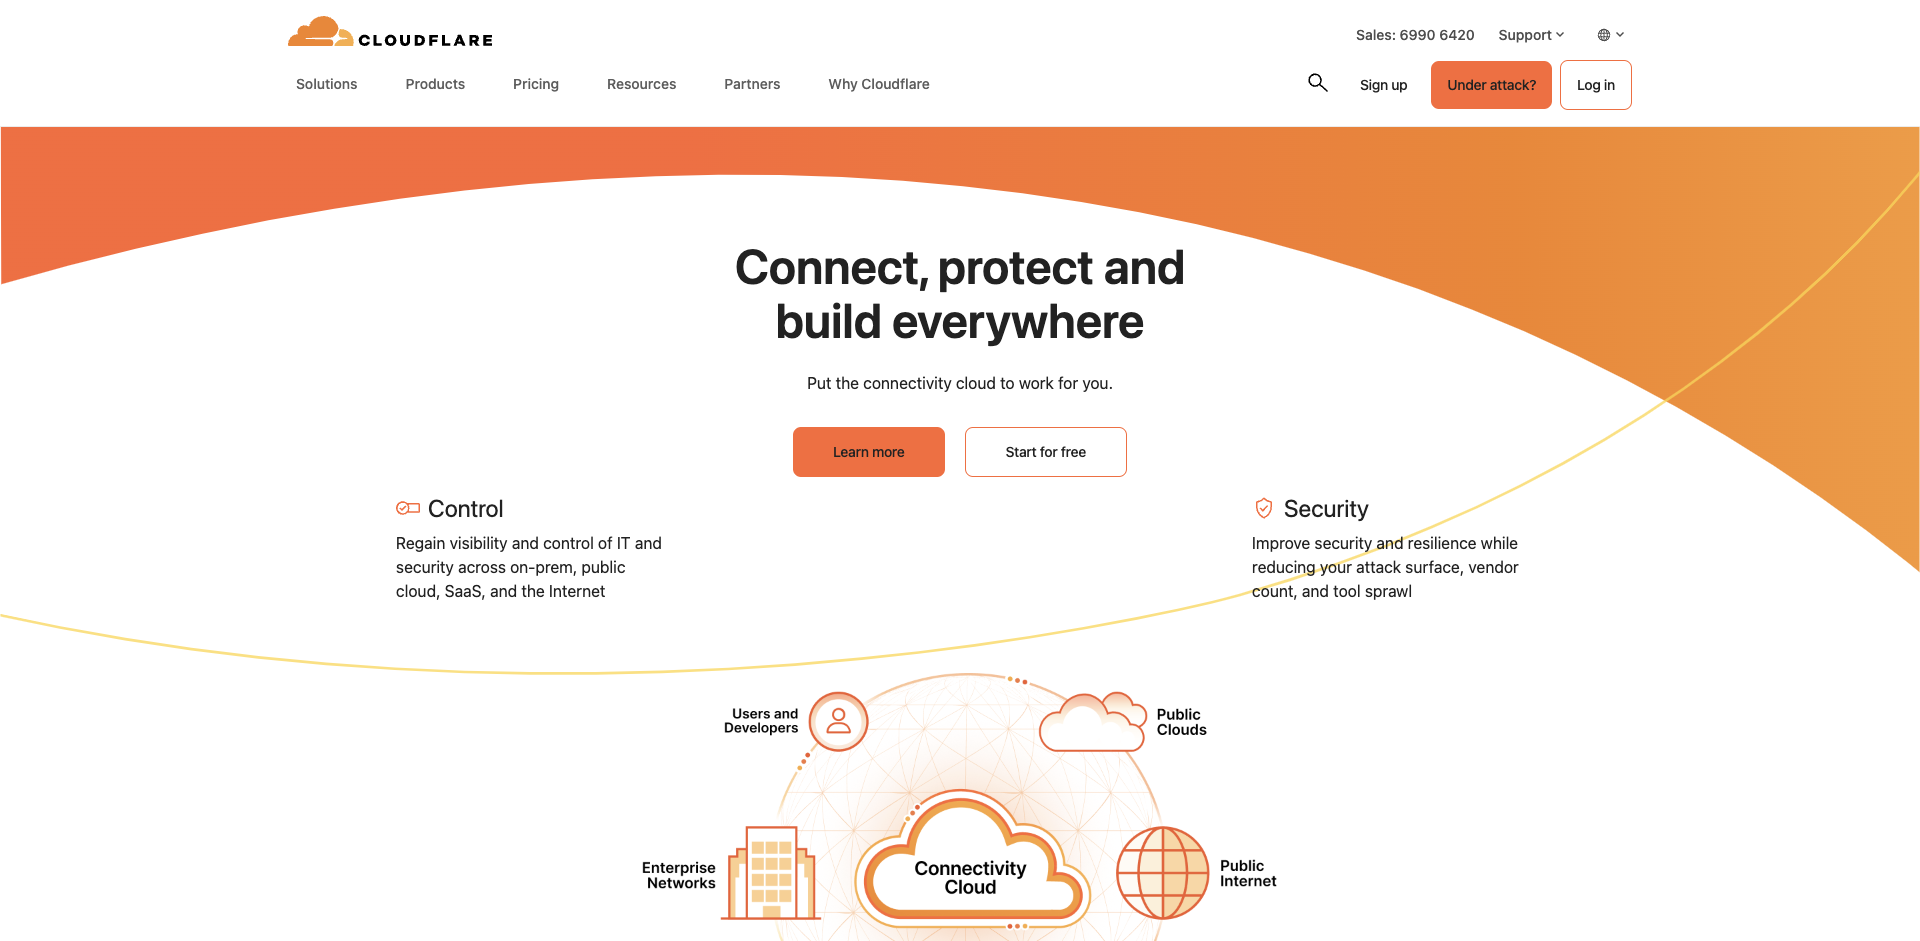button: (965, 426, 1127, 477), (793, 426, 944, 477), (1431, 61, 1553, 109), (820, 64, 938, 107), (1344, 61, 1423, 109), (599, 64, 684, 107), (1560, 60, 1632, 110), (1483, 16, 1580, 53), (288, 64, 366, 107), (398, 64, 473, 107), (716, 64, 789, 107), (506, 64, 567, 107), (1588, 16, 1632, 53), (1300, 70, 1336, 99)
dropdown: (1483, 16, 1580, 53), (1580, 16, 1632, 53)
link: (288, 16, 408, 56), (1357, 25, 1474, 45)
